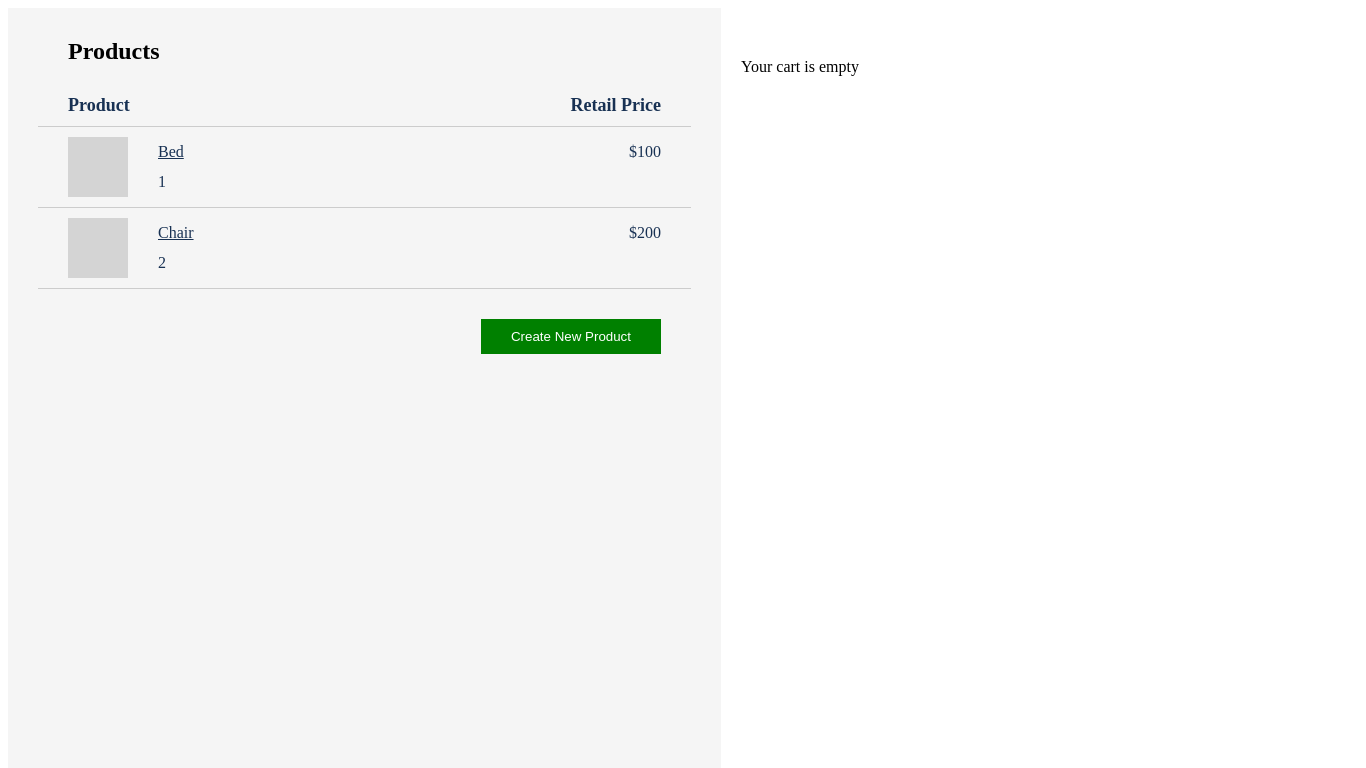
Test case: App component › Click product on product list, it is added to cart
Click the text "Bed".
click(171, 152)  # box x1=158 y1=143 x2=184 y2=160
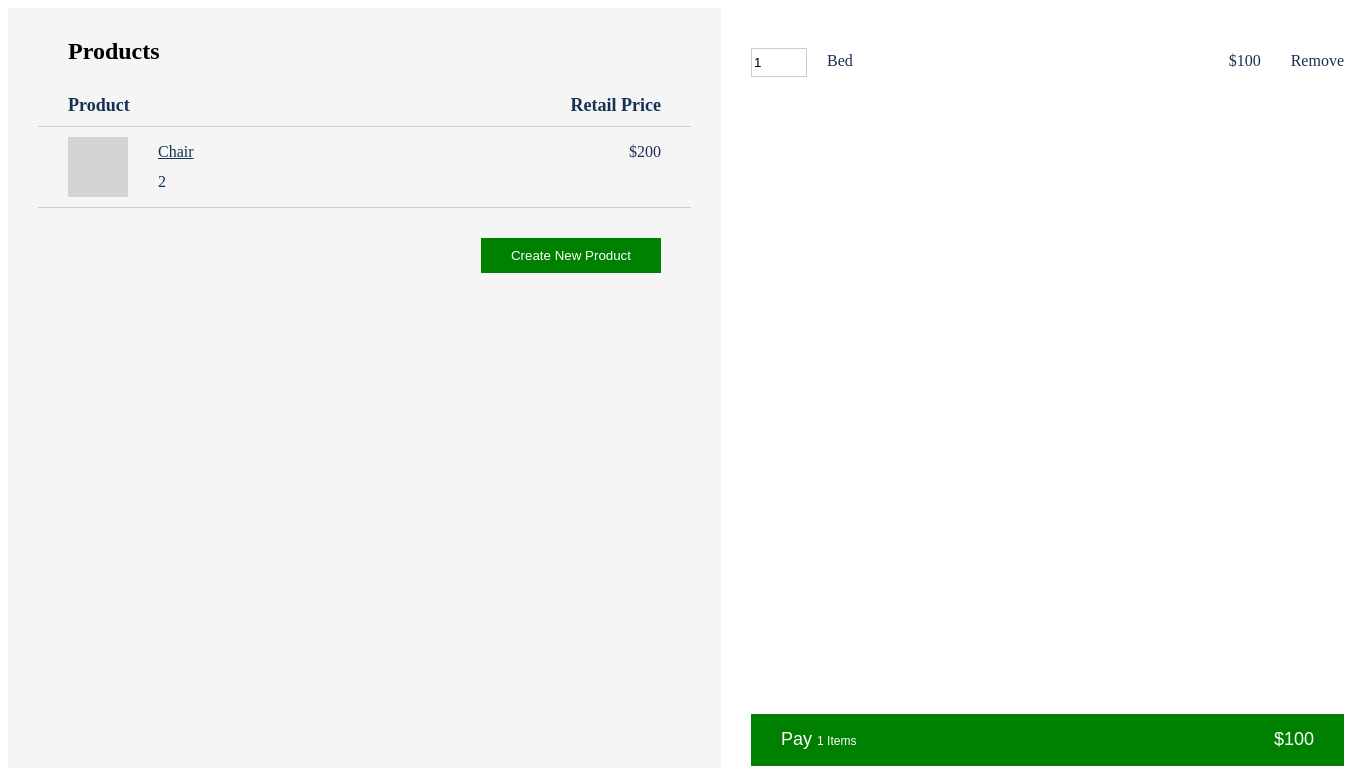
Expected: the field with test id "item-1-qty" holds "1", x1=751 y1=48 x2=807 y2=77
Expected: the text with test id "item-1-price" reads "$100", x1=1229 y1=52 x2=1261 y2=69
Expected: the text with test id "item-1-remove" reads "Remove", x1=1291 y1=52 x2=1344 y2=69
